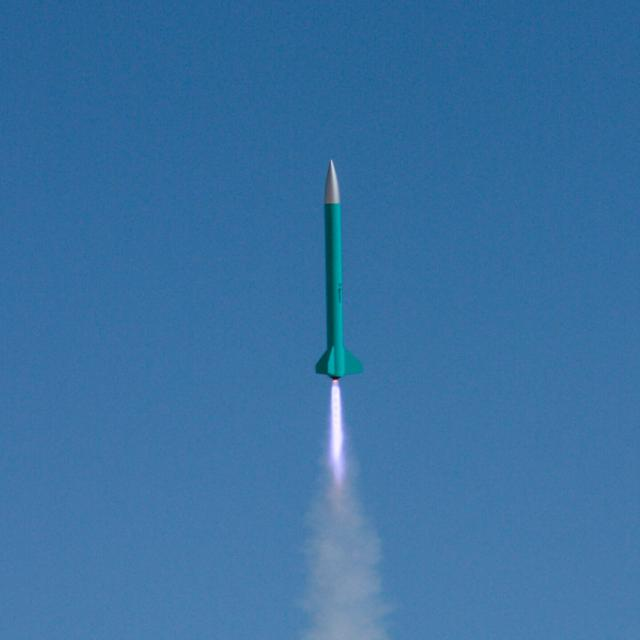Rocket: (314, 158, 365, 381)
